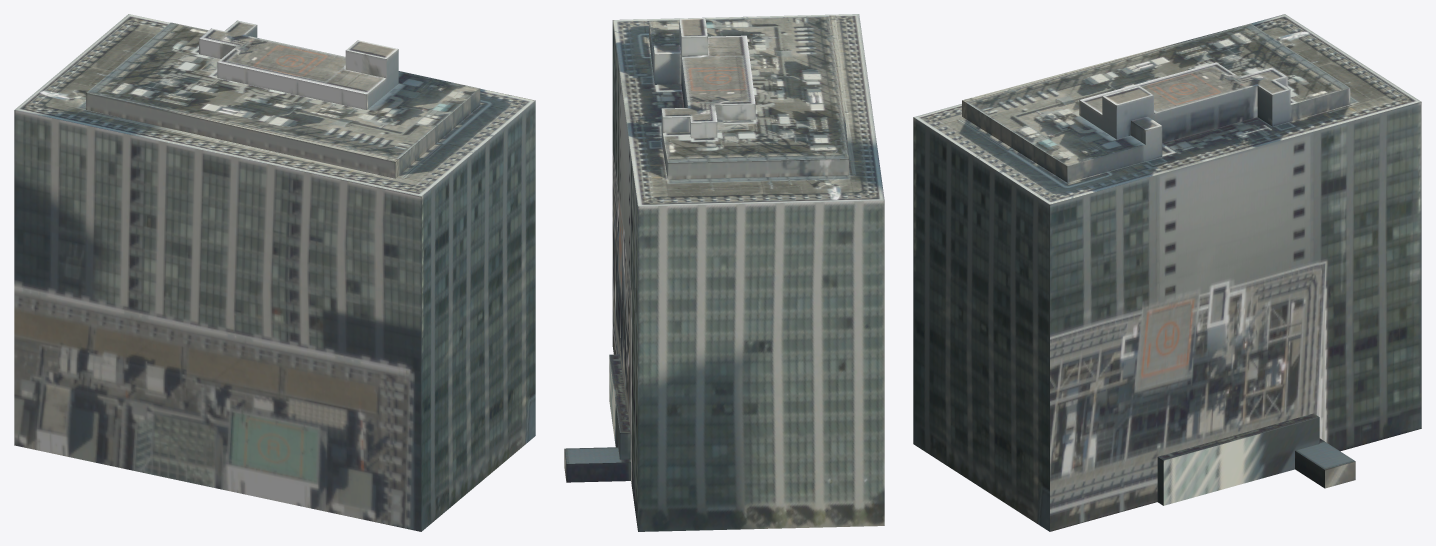
The model's file is unityexport10.obj.
The picture shows the model from 3 angles, left to right: view 1: azimuth 30°, elevation 25°; view 2: azimuth 150°, elevation 25°; view 3: azimuth 270°, elevation 25°; orthographic projection. The views are drawn at different scales.
Parts seen in each view (by area): view 1: Baked Mesh 50; view 2: Baked Mesh 50; view 3: Baked Mesh 50.
Boxes of the visible parts, x1=… form: Baked Mesh 50: x1=14, y1=14, x2=535, y2=531; Baked Mesh 50: x1=564, y1=14, x2=884, y2=531; Baked Mesh 50: x1=913, y1=14, x2=1421, y2=531.
Bounding box in the file's own units: 82.38 × 75.95 × 92.65.
